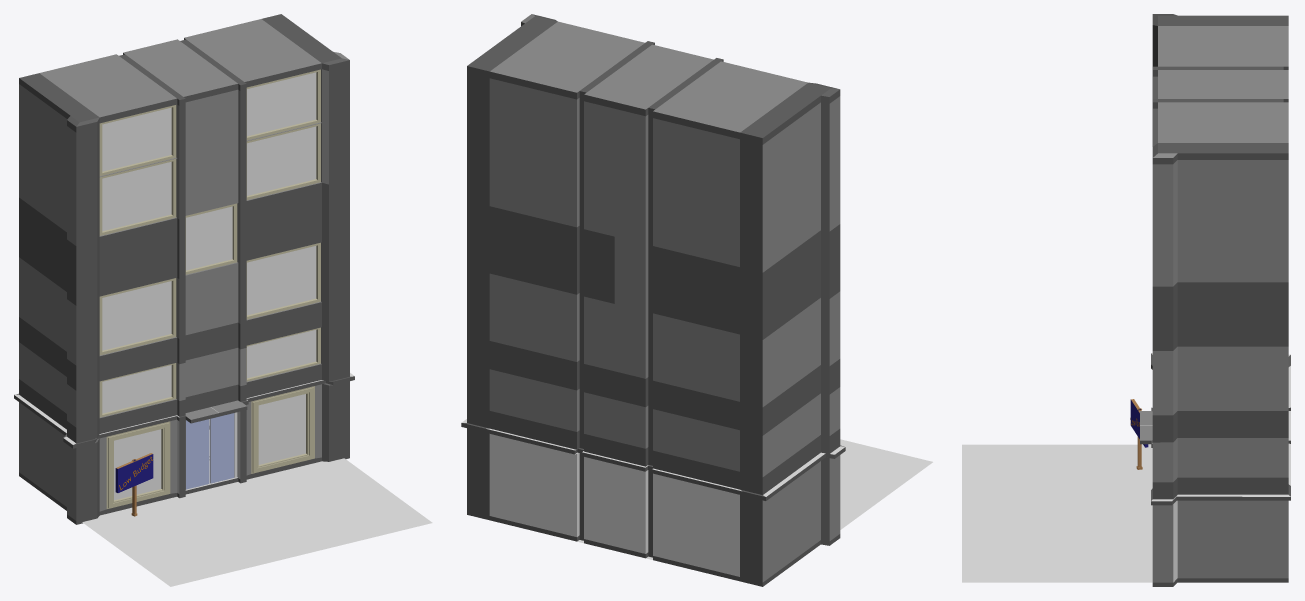
The model's file is Offices 1.fbx.
3 renders of one model, left to right at view 1: azimuth 30°, elevation 25°; view 2: azimuth 150°, elevation 25°; view 3: azimuth 270°, elevation 25°, orthographic. The views are drawn at different scales.
Visible parts, largest first — view 1: Cube.019, Plane.009, Cube.018; view 2: Cube.019, Plane.009; view 3: Cube.019, Plane.009, Cube.018.
Boxes of the visible parts, <box> form: Cube.019: <box>14,14,354,524</box>; Plane.009: <box>82,434,432,586</box>; Cube.018: <box>115,453,153,516</box>; Cube.019: <box>461,14,845,586</box>; Plane.009: <box>577,439,932,559</box>; Cube.019: <box>1140,14,1290,586</box>; Plane.009: <box>962,444,1152,582</box>; Cube.018: <box>1130,399,1148,469</box>.
Bounding box in the file's own units: 2149 × 2915 × 2014.
